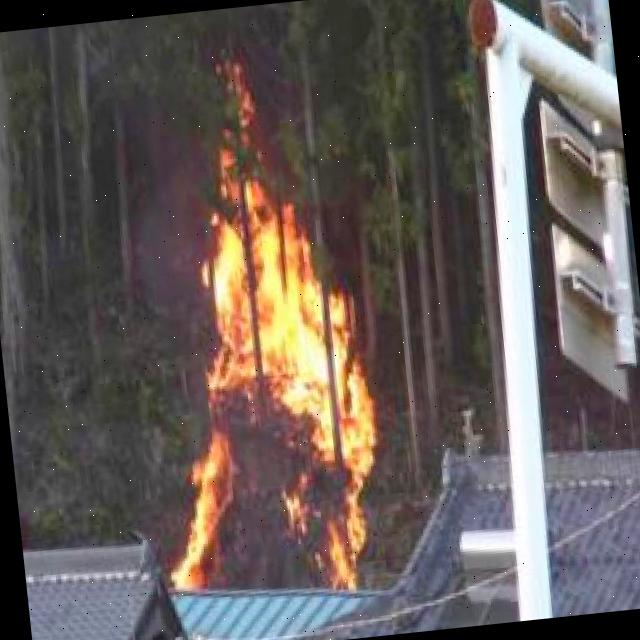fire: (141, 153, 395, 604)
